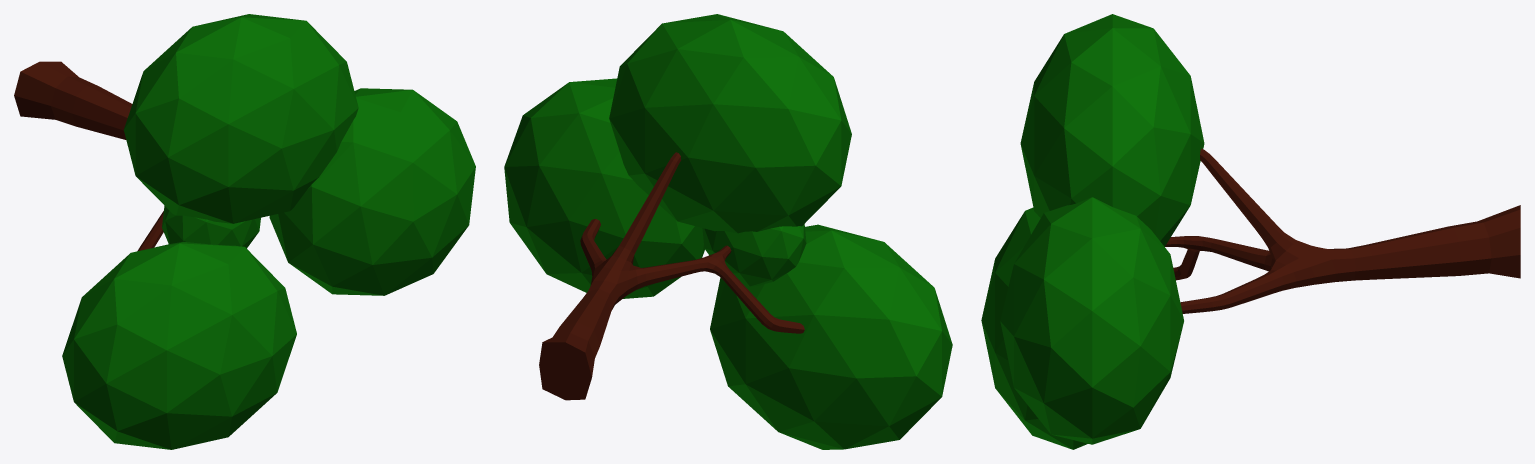
The model's file is arbol.obj.
3 views of the same model, side by side, from view 1: azimuth 30°, elevation 25°; view 2: azimuth 150°, elevation 25°; view 3: azimuth 270°, elevation 25° (orthographic). The views are drawn at different scales.
Parts seen in each view (by area): view 1: Plane; view 2: Plane; view 3: Plane.
Part boxes in pixels (x1,y1,x2,y2): Plane: (14, 14, 475, 449); Plane: (504, 14, 952, 449); Plane: (981, 14, 1520, 449).
Bounding box in the file's own units: 3.78 × 3.55 × 3.85.
